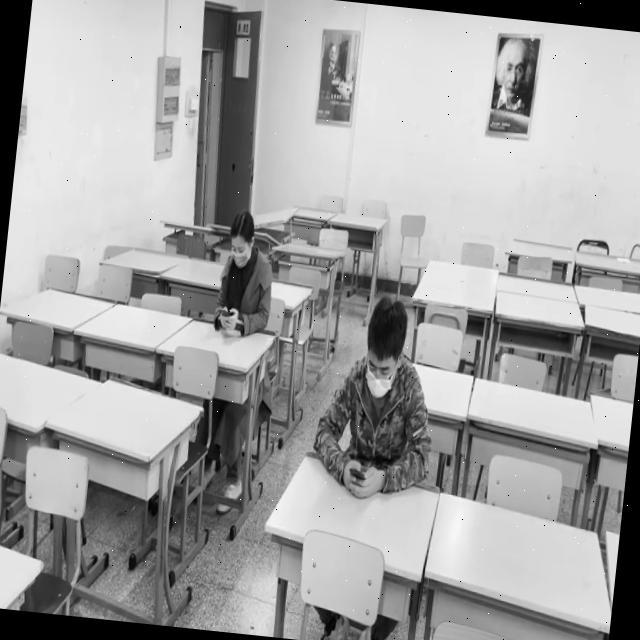phone: (308, 288, 447, 503), (212, 208, 279, 341)
